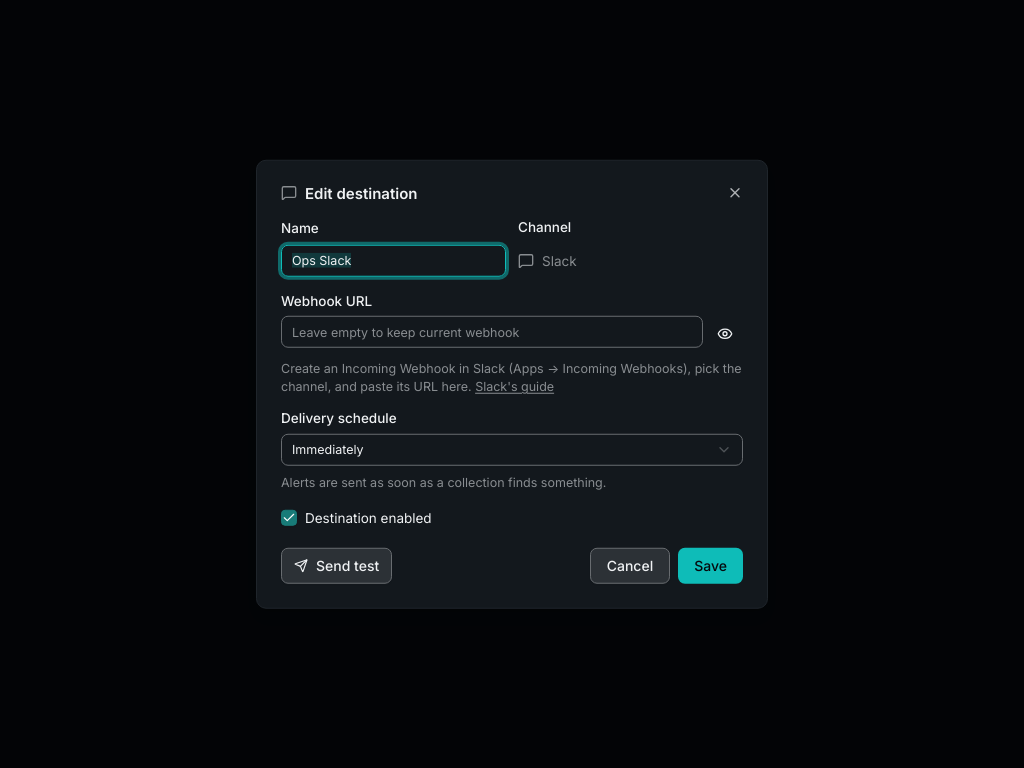
DestinationDialog — Send test before saving › drops the result once the settings it was sent with change
The image size is (1024, 768).
Click the button "Send test" at (337, 565), box [281,547,392,583]
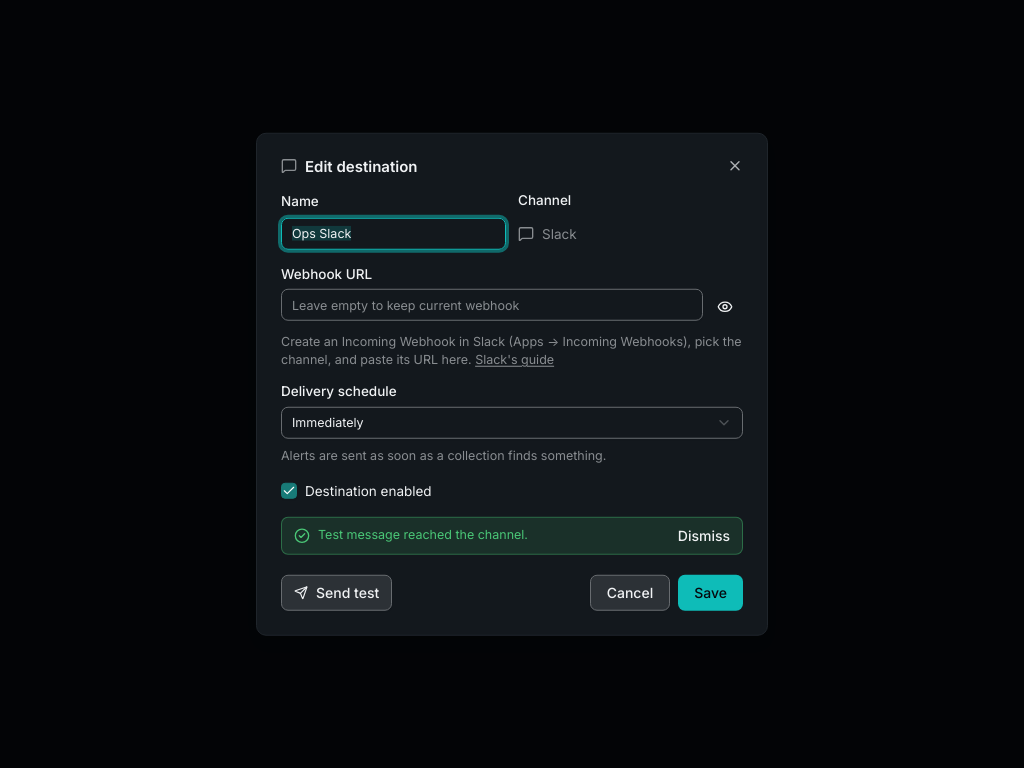
Expected: the text "Test message reached the channel." is shown, [318,526,528,541]
Note: A result about the old webhook under a new one would be a false answer.
Type "https://hooks.slack.com/services/T/B/Y" into the password field labelled "Webhook URL" at (492, 305), box [281,289,703,321]
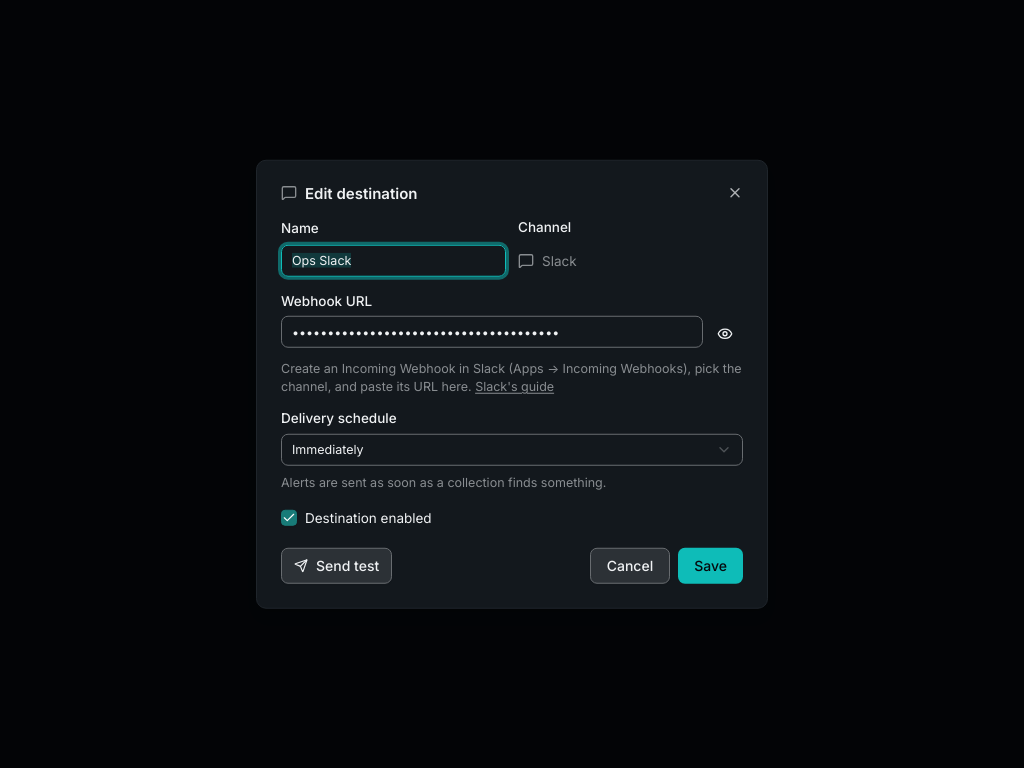
Expected: the text "Test message reached the channel." is gone
